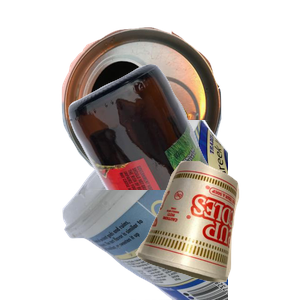glass: (66, 61, 300, 241)
metal: (59, 10, 273, 189)
plastic: (60, 120, 300, 300)
trash: (133, 158, 300, 300)
